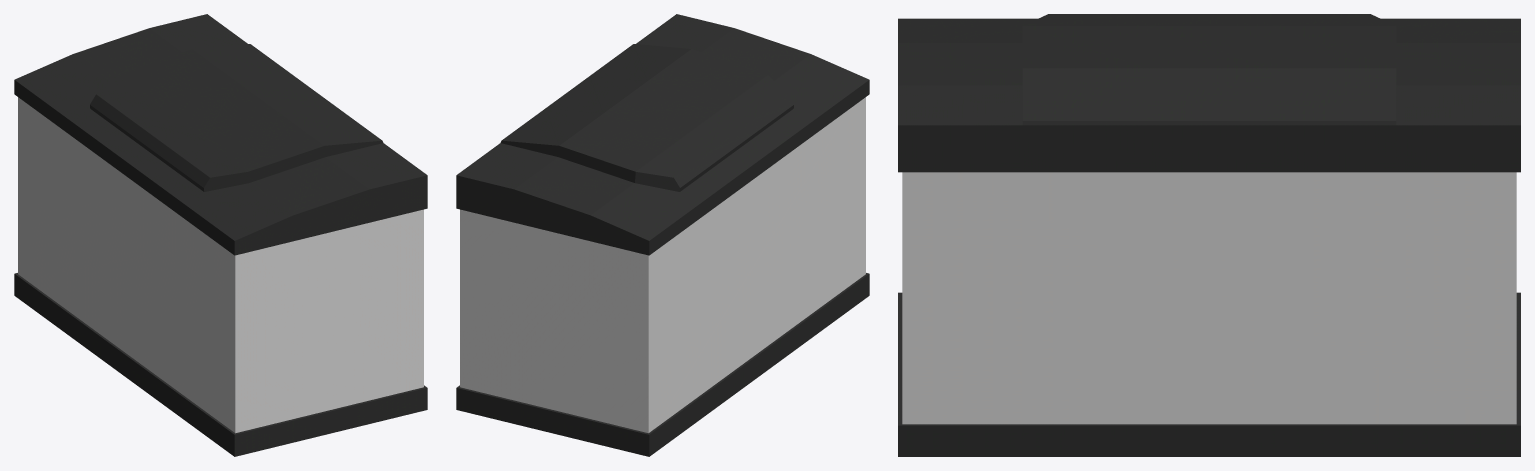
Rendered from fish-tank.glb.
3 renders of one model, left to right at view 1: azimuth 30°, elevation 25°; view 2: azimuth 150°, elevation 25°; view 3: azimuth 270°, elevation 25°, orthographic. The views are drawn at different scales.
Parts seen in each view (by area): view 1: Fish_Tank_Cube.003; view 2: Fish_Tank_Cube.003; view 3: Fish_Tank_Cube.003.
Boxes of the visible parts, left/top/right/bottom form: Fish_Tank_Cube.003: left=14, top=14, right=427, bottom=456; Fish_Tank_Cube.003: left=456, top=14, right=869, bottom=456; Fish_Tank_Cube.003: left=898, top=14, right=1520, bottom=456.
Size of the model in its own units: 1.29 by 1.57 by 2.55.
Materials: 4 (4 with a texture image).
